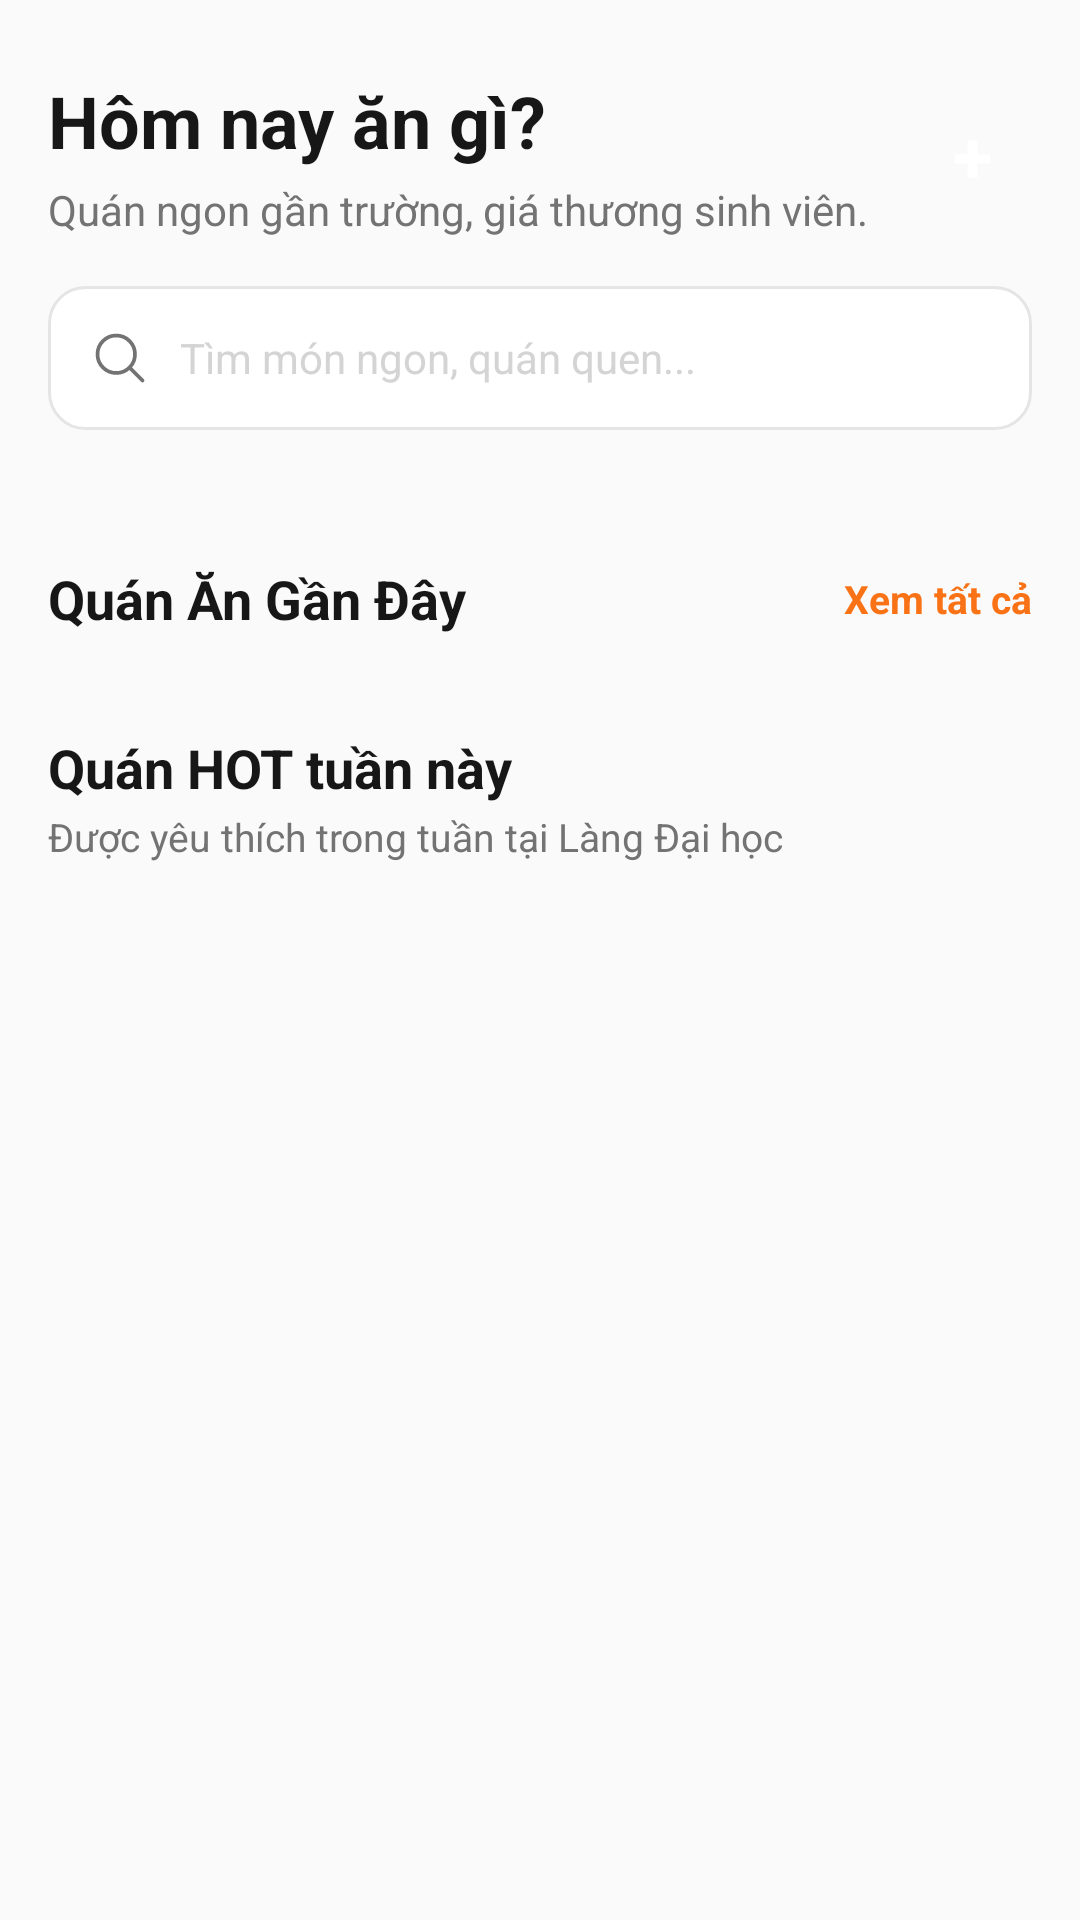

Icon bounding boxes for this 1080 × 1920 phone screenshot, format (x1, y1, x2, y2):
search: (95, 333, 145, 383)
